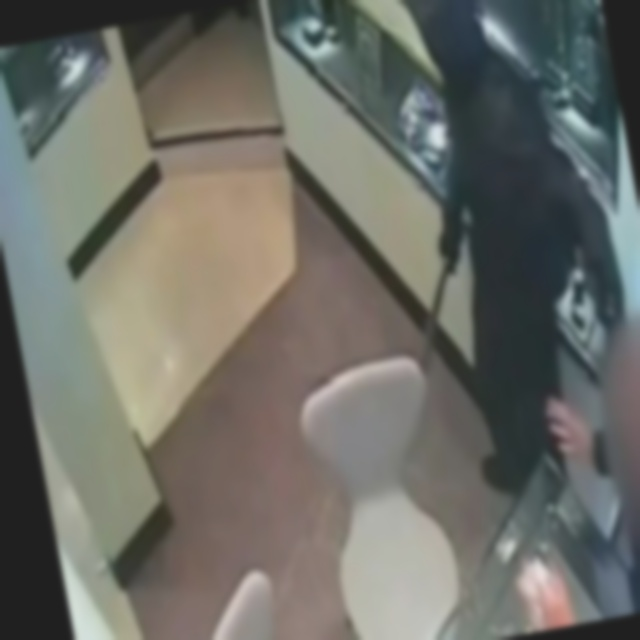gun: (397, 249, 481, 367)
